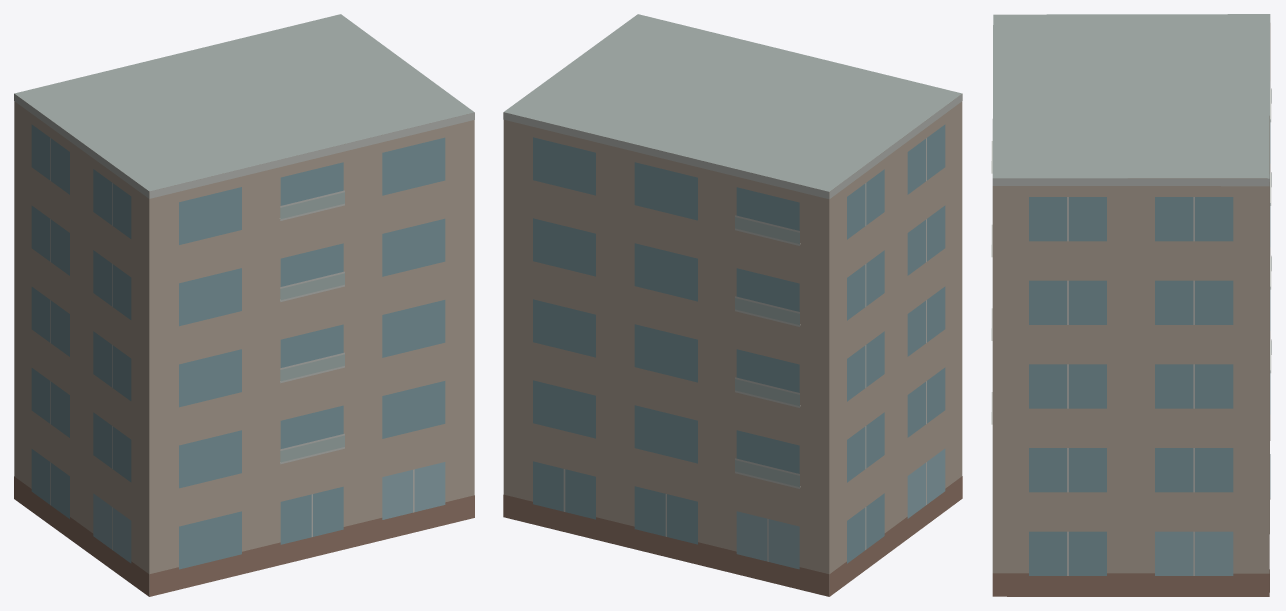
File: survey-upis-33012160.glb
3 renders of one model, left to right at view 1: azimuth 30°, elevation 25°; view 2: azimuth 150°, elevation 25°; view 3: azimuth 270°, elevation 25°, orthographic. The views are drawn at different scales.
Visible parts, largest first — view 1: survey-upis-33012160.tmp; view 2: survey-upis-33012160.tmp; view 3: survey-upis-33012160.tmp.
Boxes of the visible parts, x1=… form: survey-upis-33012160.tmp: x1=14, y1=14, x2=474, y2=596; survey-upis-33012160.tmp: x1=503, y1=14, x2=962, y2=596; survey-upis-33012160.tmp: x1=991, y1=14, x2=1271, y2=596.
Bounding box in the file's own units: 11.14 × 13.2 × 8.01.
